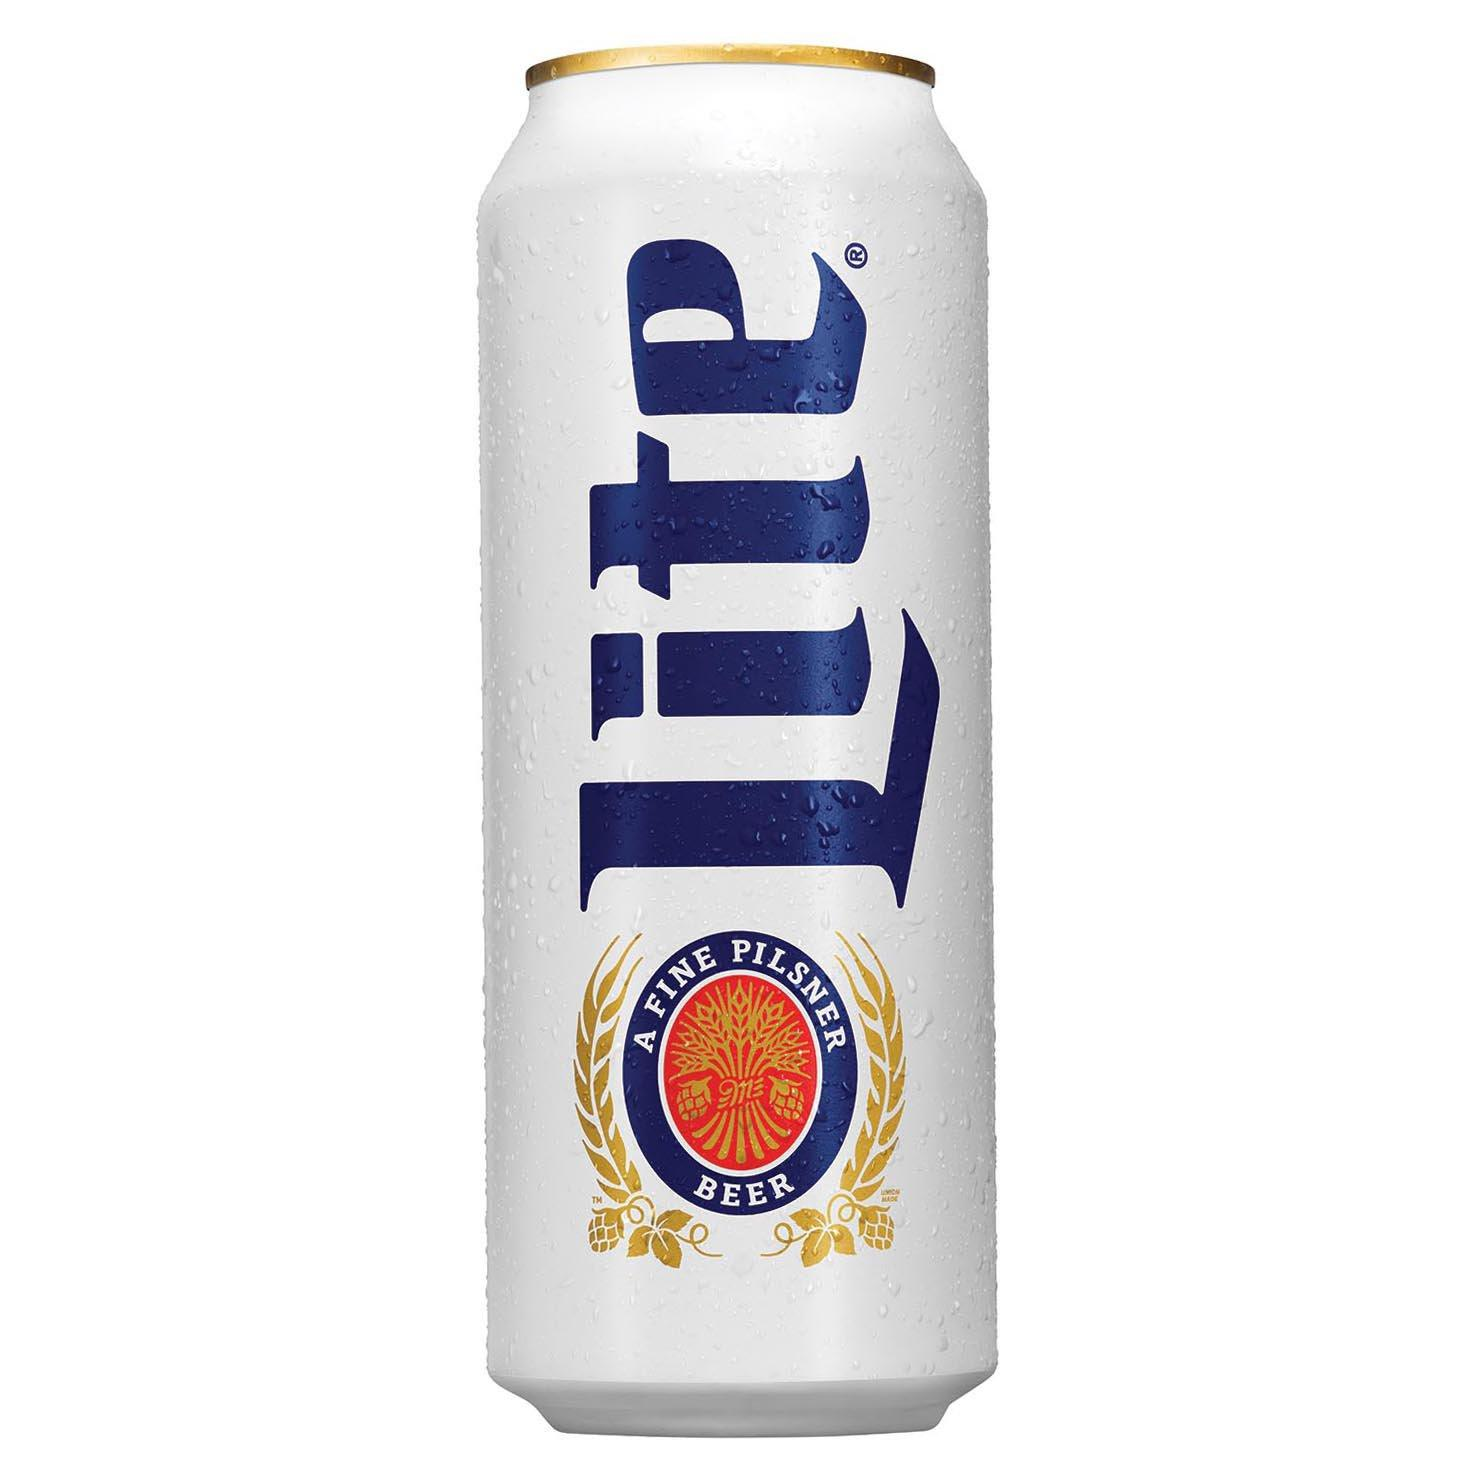metal: (479, 45, 995, 1434)
